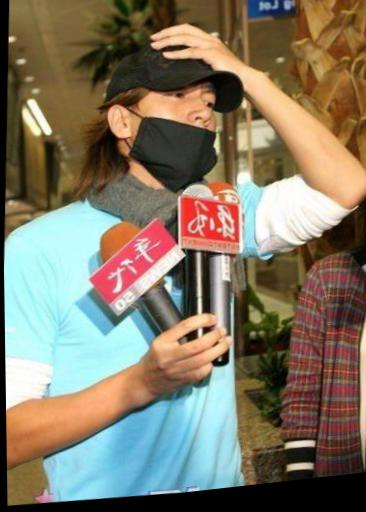WRONG: (130, 78, 227, 183)
